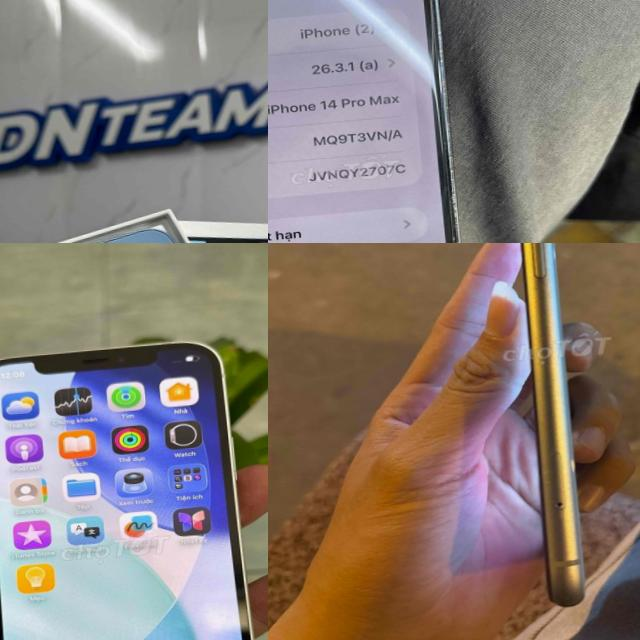gen_11: (513, 243, 584, 605)
gen_12_13: (0, 331, 267, 640)
gen_14: (268, 0, 490, 243)
scratch: (432, 171, 488, 243)
